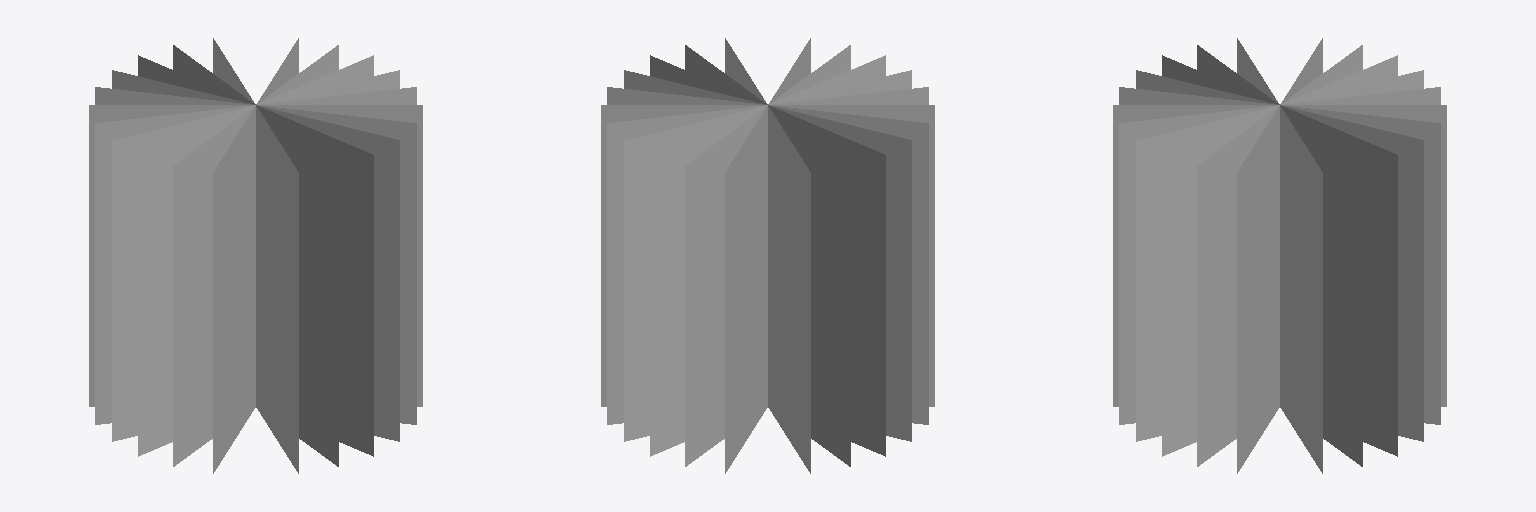
Rendered from wand_effect.obj.
3 views of the same model, side by side, from view 1: azimuth 30°, elevation 25°; view 2: azimuth 150°, elevation 25°; view 3: azimuth 270°, elevation 25° (orthographic).
Parts seen in each view (by area): view 1: Plane.001, Plane.007, Plane.003, Plane.004, Plane.011, Plane.010, Plane, Plane.006, Plane.002, Plane.005, Plane.009; view 2: Plane.001, Plane.009, Plane.002, Plane.011, Plane.005, Plane.004, Plane, Plane.008, Plane.003, Plane.010, Plane.007; view 3: Plane.007, Plane.009, Plane.005, Plane.010, Plane.003, Plane.002, Plane.006, Plane.008, Plane.004, Plane.011, Plane.001.
Boxes of the visible parts, box(x1,y1,x2,y2) form: Plane.001: box(173, 45, 338, 466); Plane.007: box(173, 45, 338, 466); Plane.003: box(213, 38, 298, 473); Plane.004: box(213, 38, 298, 473); Plane.011: box(138, 55, 373, 456); Plane.010: box(138, 55, 373, 456); Plane: box(112, 70, 399, 441); Plane.006: box(112, 70, 399, 441); Plane.002: box(95, 87, 416, 424); Plane.005: box(95, 87, 416, 424); Plane.009: box(89, 105, 422, 406); Plane.001: box(685, 45, 850, 466); Plane.009: box(685, 45, 850, 466); Plane.002: box(725, 38, 810, 473); Plane.011: box(725, 38, 810, 473); Plane.005: box(650, 55, 885, 456); Plane.004: box(650, 55, 885, 456); Plane: box(624, 70, 911, 441); Plane.008: box(624, 70, 911, 441); Plane.003: box(607, 87, 928, 424); Plane.010: box(607, 87, 928, 424); Plane.007: box(601, 105, 934, 406); Plane.007: box(1197, 45, 1362, 466); Plane.009: box(1197, 45, 1362, 466); Plane.005: box(1237, 38, 1322, 473); Plane.010: box(1237, 38, 1322, 473); Plane.003: box(1162, 55, 1397, 456); Plane.002: box(1162, 55, 1397, 456); Plane.006: box(1136, 70, 1423, 441); Plane.008: box(1136, 70, 1423, 441); Plane.004: box(1119, 87, 1440, 424); Plane.011: box(1119, 87, 1440, 424); Plane.001: box(1113, 105, 1446, 406).
Size of the model in its own units: 2 by 2 by 2.